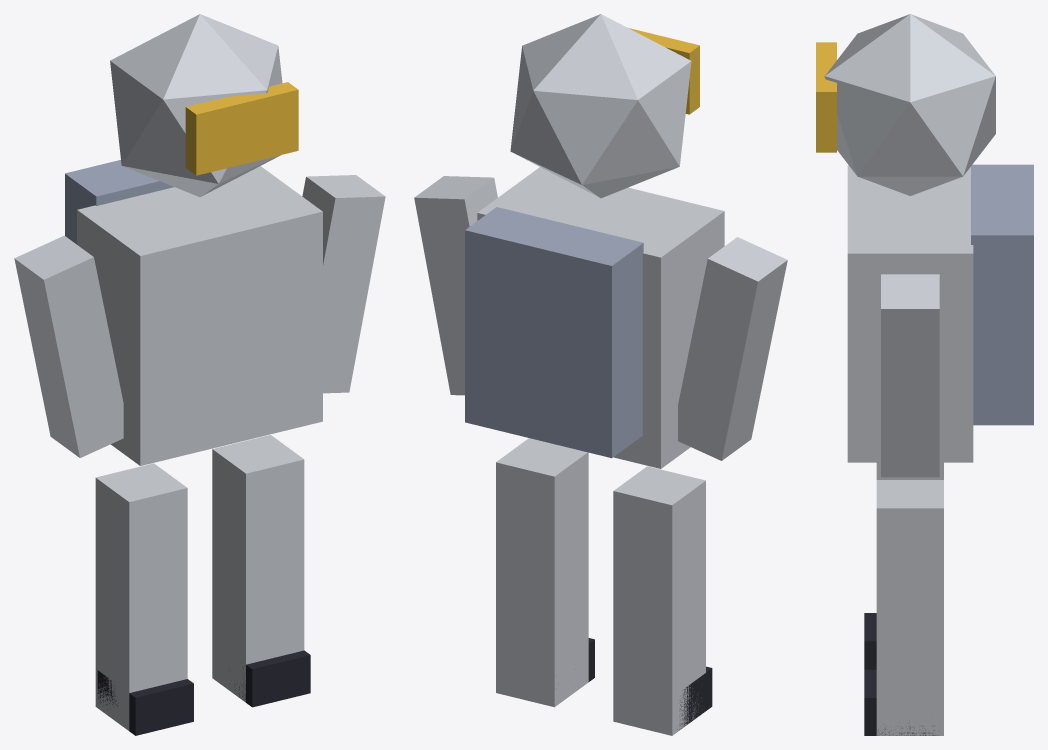
The model's file is lowpoly-astronaut.glb.
3 renders of one model, left to right at view 1: azimuth 30°, elevation 25°; view 2: azimuth 150°, elevation 25°; view 3: azimuth 270°, elevation 25°, orthographic.
Visible parts, largest first — view 1: astronaut; view 2: astronaut; view 3: astronaut.
Boxes of the visible parts, bbox=[...] form: astronaut: bbox=[14, 14, 385, 735]; astronaut: bbox=[414, 14, 787, 735]; astronaut: bbox=[816, 14, 1033, 735].
Size of the model in its own units: 0.9365 by 1.79 by 0.52.
